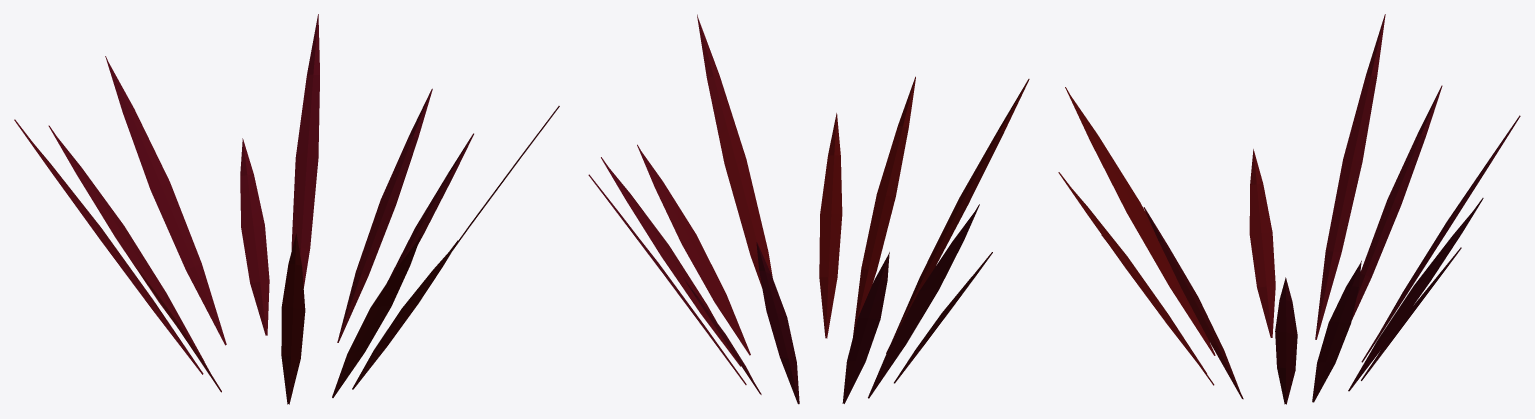
The model's file is SM_Grass.fbx.
The picture shows the model from 3 angles, left to right: view 1: azimuth 30°, elevation 25°; view 2: azimuth 150°, elevation 25°; view 3: azimuth 270°, elevation 25°; orthographic projection. The views are drawn at different scales.
Visible parts, largest first — view 1: SM_Grass; view 2: SM_Grass; view 3: SM_Grass.
Part boxes in pixels (x1,y1,x2,y2): SM_Grass: (14, 14, 559, 404); SM_Grass: (588, 14, 1029, 404); SM_Grass: (1058, 14, 1520, 404).
Bounding box in the file's own units: 46.47 × 46.78 × 28.66.
